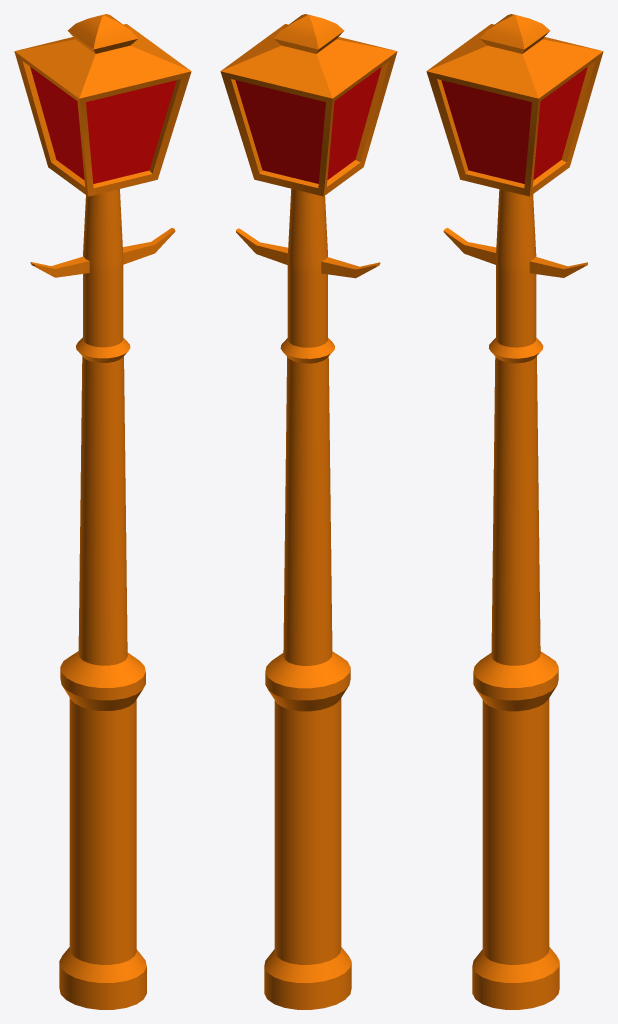
File: lantarn_model.obj
3 renders of one model, left to right at view 1: azimuth 30°, elevation 25°; view 2: azimuth 150°, elevation 25°; view 3: azimuth 330°, elevation 25°, orthographic.
Parts seen in each view (by area): view 1: polySurface152; view 2: polySurface152; view 3: polySurface152.
Boxes of the visible parts, x1,y1,x2,y2 form: polySurface152: [14, 14, 191, 1009]; polySurface152: [220, 14, 397, 1009]; polySurface152: [426, 14, 603, 1009].
Bounding box in the file's own units: 32.1 × 209 × 25.25.
